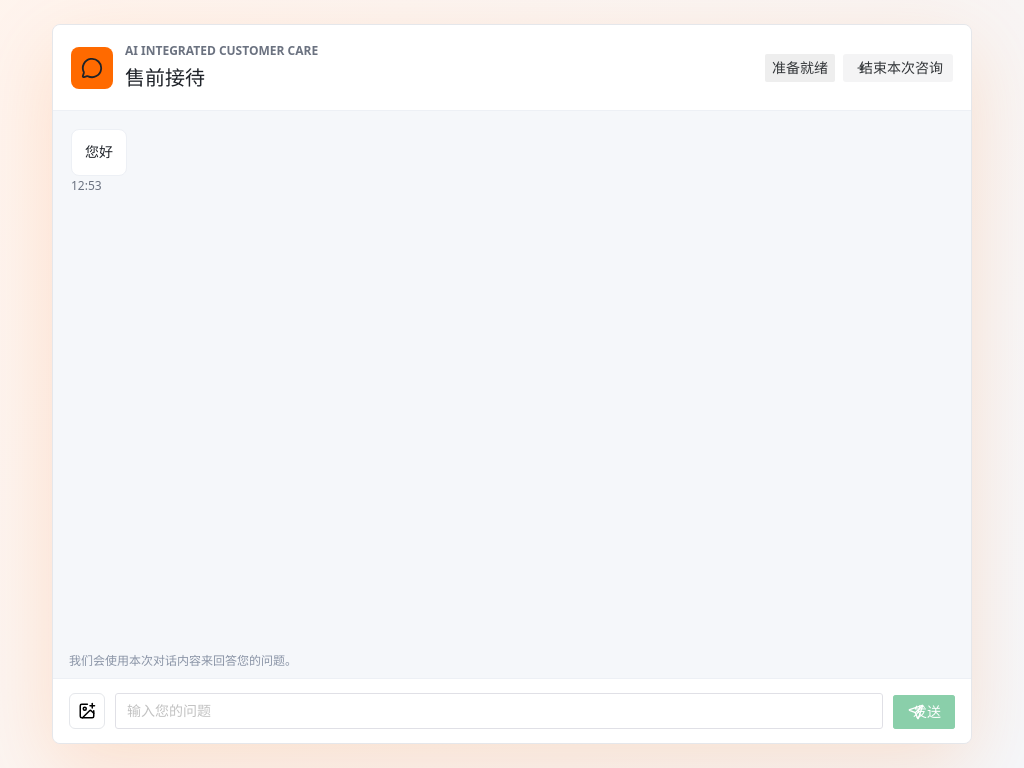
Test: PublicAICCChatPage › rejects invalid phone lead values before submitting
Type "想预约演示" into the text box with placeholder "输入您的问题" at (499, 711), box [127, 693, 871, 729]
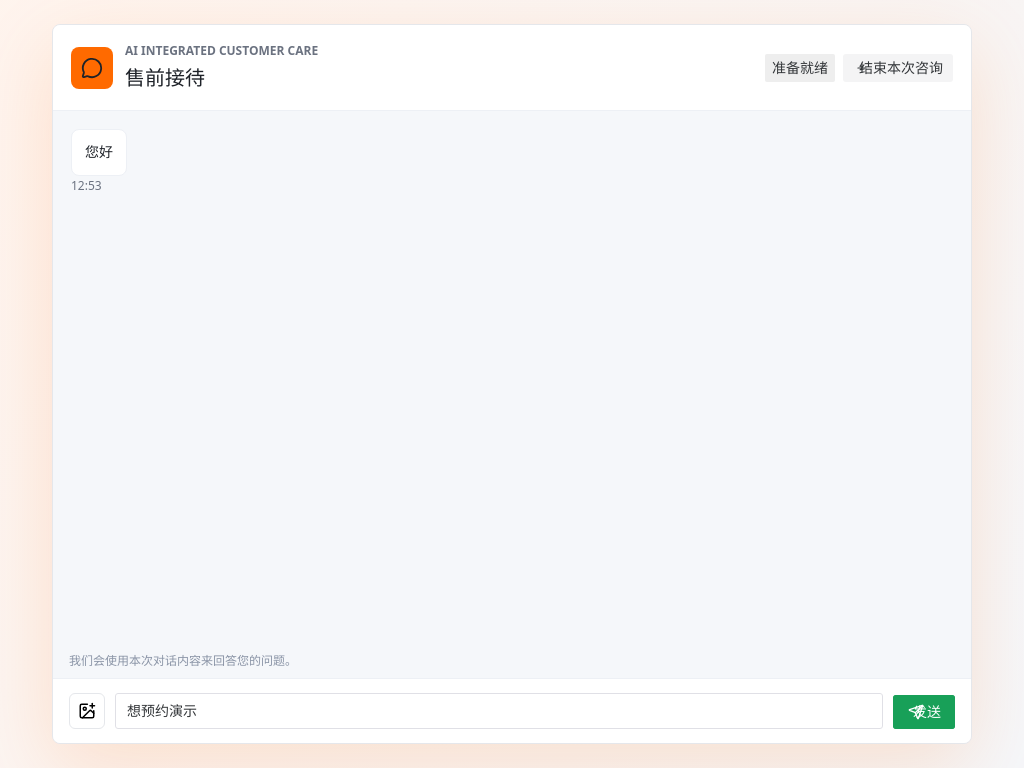
Submit the form with class "composer", box [53, 678, 971, 743]
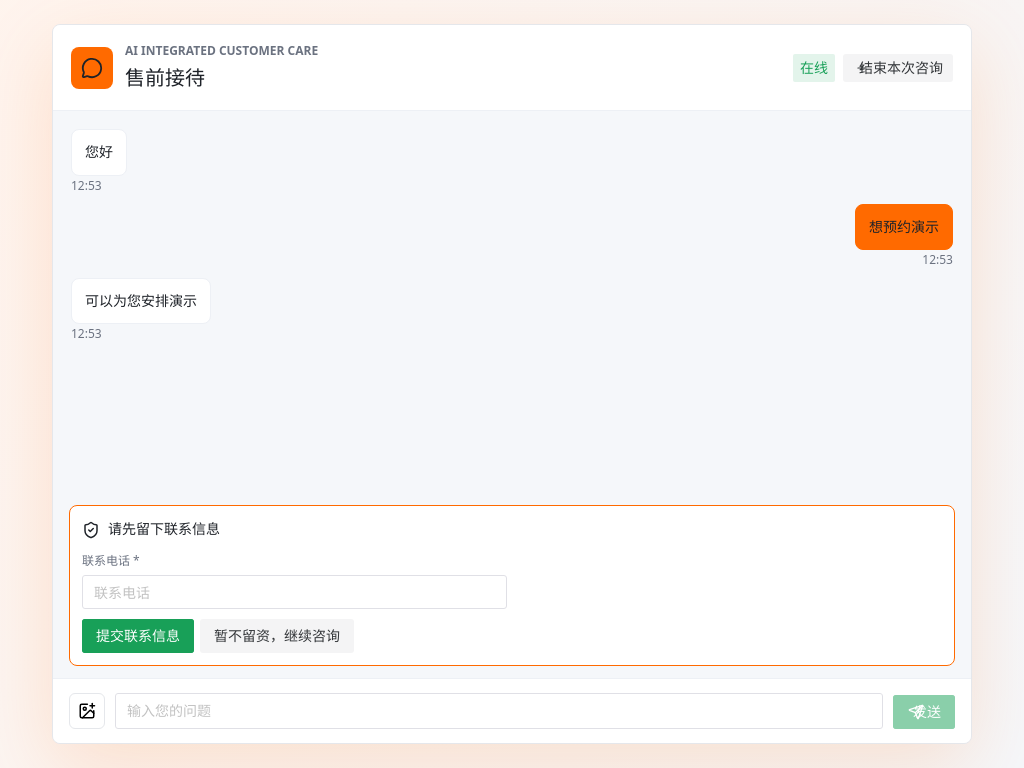
Type "12345" into the field labelled "联系电话 * 联系电话" at (294, 592), box [94, 575, 495, 609]
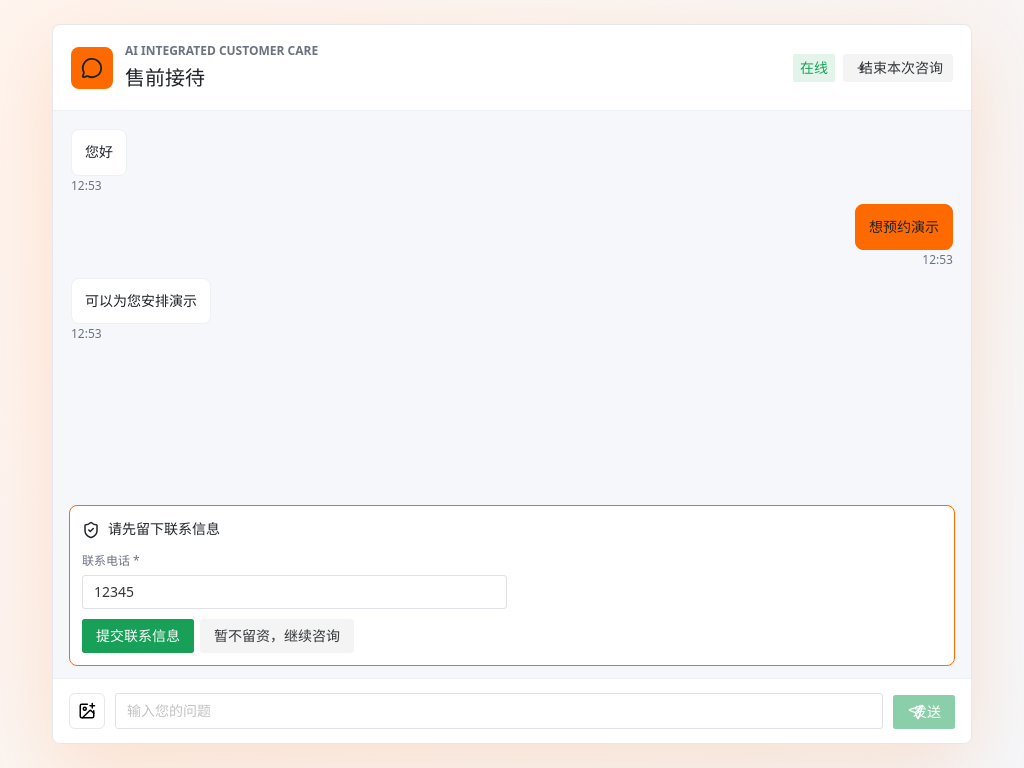
Submit the form with class "lead-gate", box [69, 505, 955, 666]
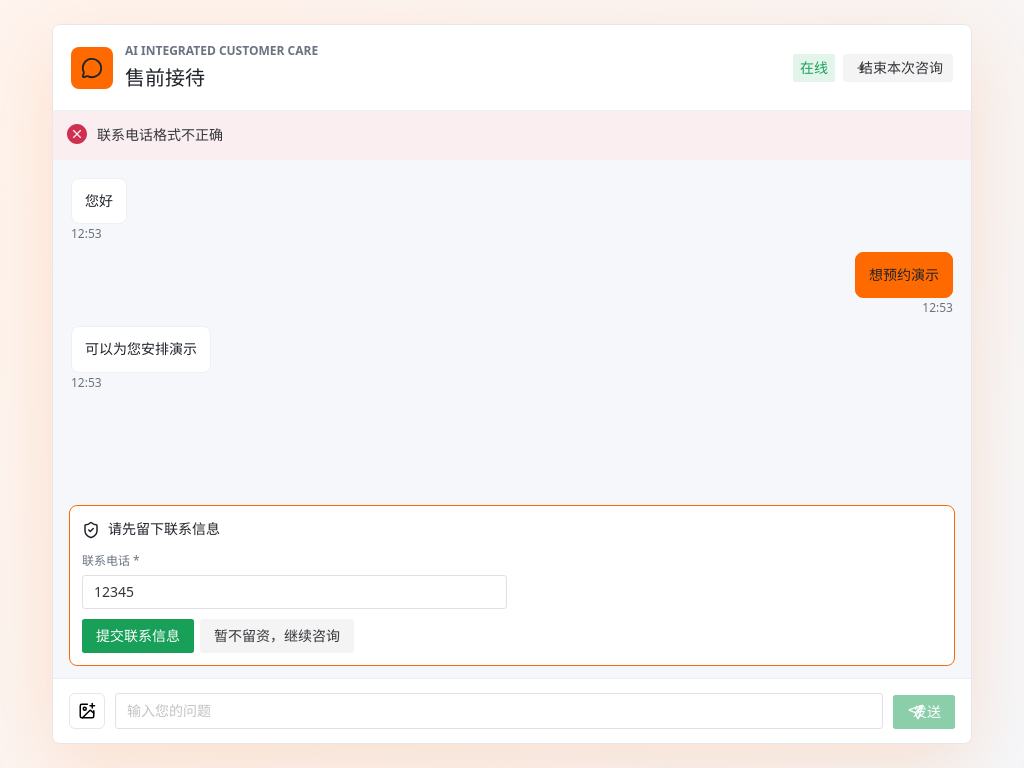
expect the form with class "lead-gate" is shown: met, box [69, 505, 955, 666]
expect the text "联系电话格式不正确" is shown: met, box [97, 125, 223, 144]
